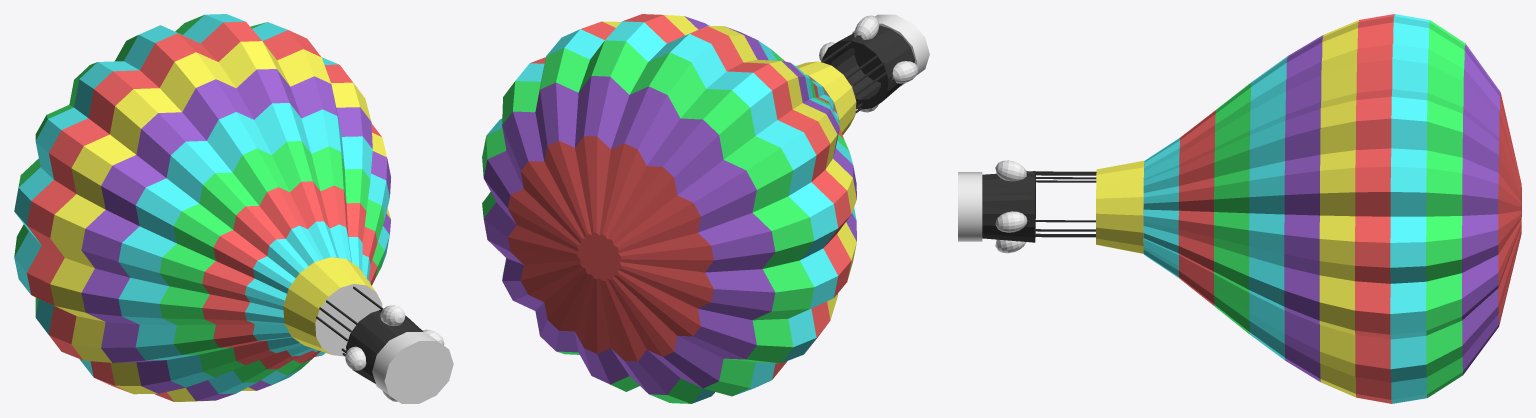
Rendered from Hot air balloon.fbx.
The picture shows the model from 3 angles, left to right: view 1: azimuth 30°, elevation 25°; view 2: azimuth 150°, elevation 25°; view 3: azimuth 270°, elevation 25°; orthographic projection. The views are drawn at different scales.
Parts seen in each view (by area): view 1: imagetostl_mesh4, imagetostl_mesh2, imagetostl_mesh0, imagetostl_mesh1; view 2: imagetostl_mesh4, imagetostl_mesh2, imagetostl_mesh1, imagetostl_mesh0; view 3: imagetostl_mesh4, imagetostl_mesh2, imagetostl_mesh3, imagetostl_mesh0.
Part boxes in pixels (<box>): imagetostl_mesh4: <box>14,14,423,401</box>; imagetostl_mesh2: <box>372,332,453,403</box>; imagetostl_mesh0: <box>380,305,405,325</box>; imagetostl_mesh1: <box>345,346,366,370</box>; imagetostl_mesh4: <box>482,14,914,403</box>; imagetostl_mesh2: <box>852,14,929,86</box>; imagetostl_mesh1: <box>892,61,918,83</box>; imagetostl_mesh0: <box>854,15,879,39</box>; imagetostl_mesh4: <box>982,14,1521,403</box>; imagetostl_mesh2: <box>958,172,982,241</box>; imagetostl_mesh3: <box>995,211,1027,232</box>; imagetostl_mesh0: <box>995,160,1026,181</box>.
Size of the model in its own units: 48713 by 48717 by 70777.
